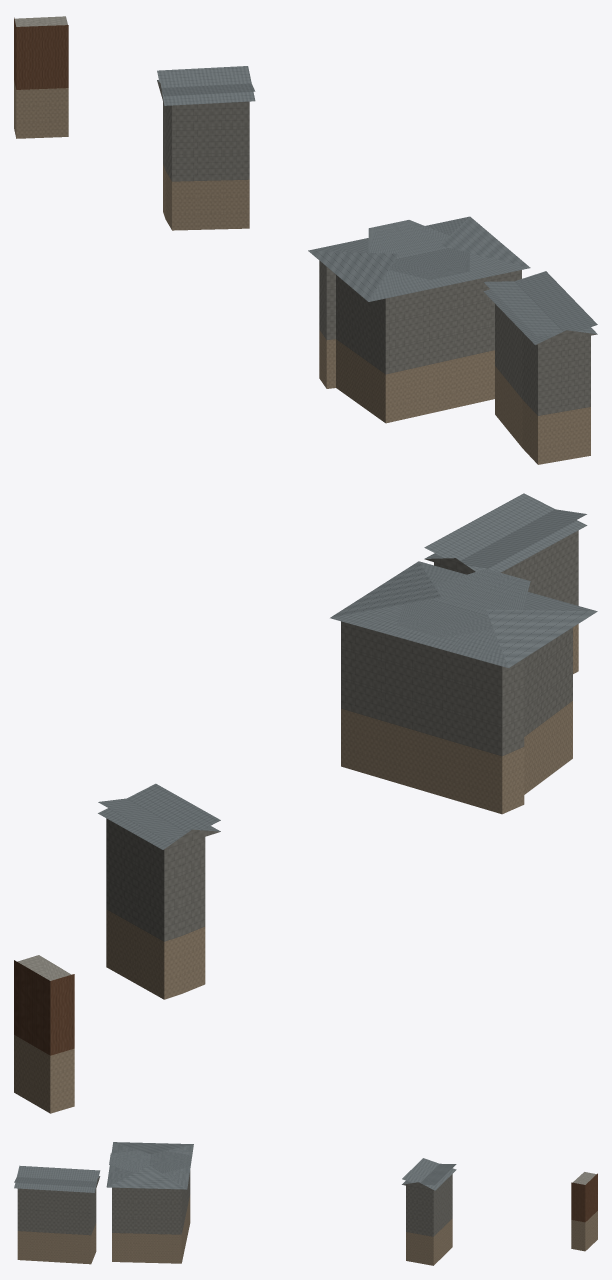
The model's file is bld_c10_27_402.gltf.
The picture shows the model from 3 angles, top to bottom: view 1: azimuth 30°, elevation 25°; view 2: azimuth 150°, elevation 25°; view 3: azimuth 270°, elevation 25°; orthographic projection. The views are drawn at different scales.
Visible parts, largest first — view 1: bld_c10_27_402; view 2: bld_c10_27_402; view 3: bld_c10_27_402.
Part boxes in pixels (box(x1,y1,x2,y2)): bld_c10_27_402: box(14, 16, 597, 464); bld_c10_27_402: box(14, 493, 597, 1113); bld_c10_27_402: box(14, 1142, 597, 1265).
Size of the model in its own units: 17.92 by 15.4 by 93.04.
Materials: 7 (7 with a texture image).
